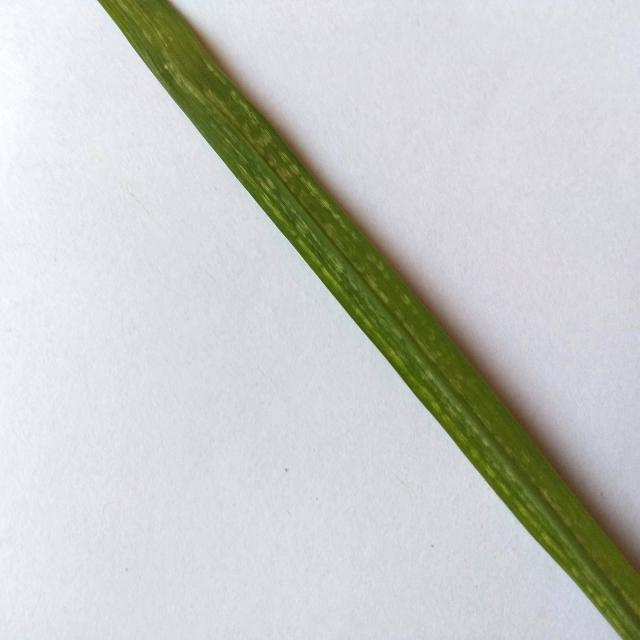Rice_Healthy: (99, 0, 640, 640)
